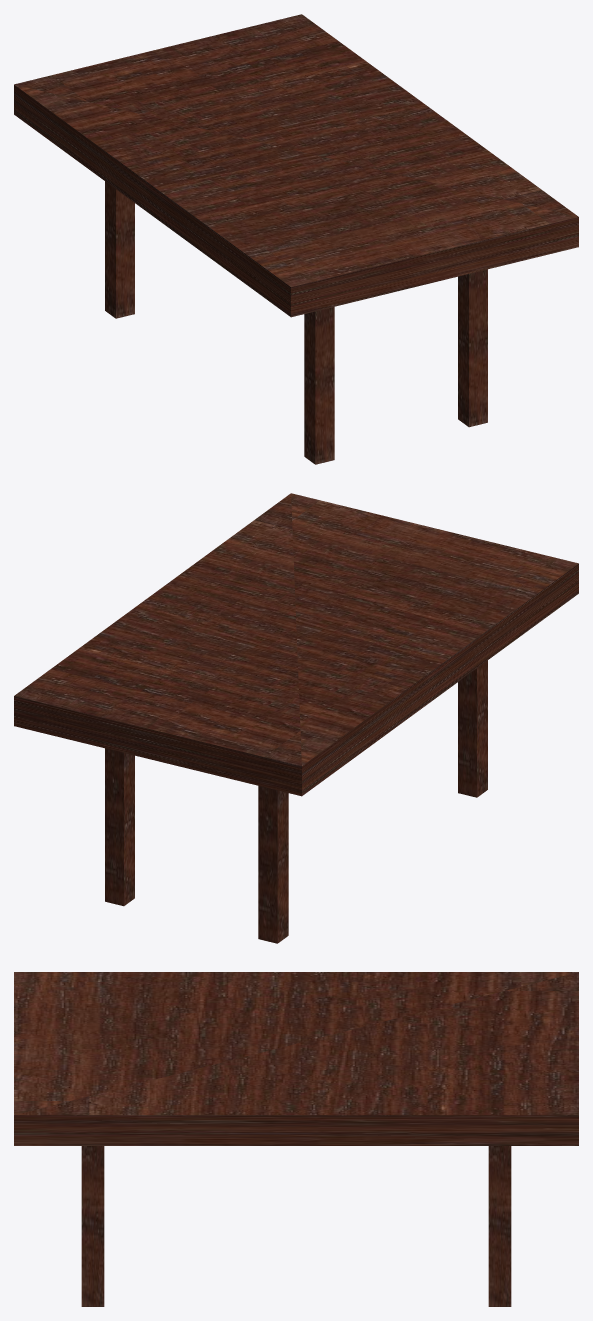
File: mesa.obj
3 views of the same model, one above another, from view 1: azimuth 30°, elevation 25°; view 2: azimuth 150°, elevation 25°; view 3: azimuth 270°, elevation 25° (orthographic).
Visible parts, largest first — view 1: pCube6; view 2: pCube6; view 3: pCube6.
Part boxes in pixels (x1=…): pCube6: x1=14, y1=14, x2=578, y2=464; pCube6: x1=14, y1=493, x2=578, y2=943; pCube6: x1=14, y1=972, x2=578, y2=1306.
Size of the model in its own units: 30 by 21.5 by 50.
Materials: 1 (1 with a texture image).
